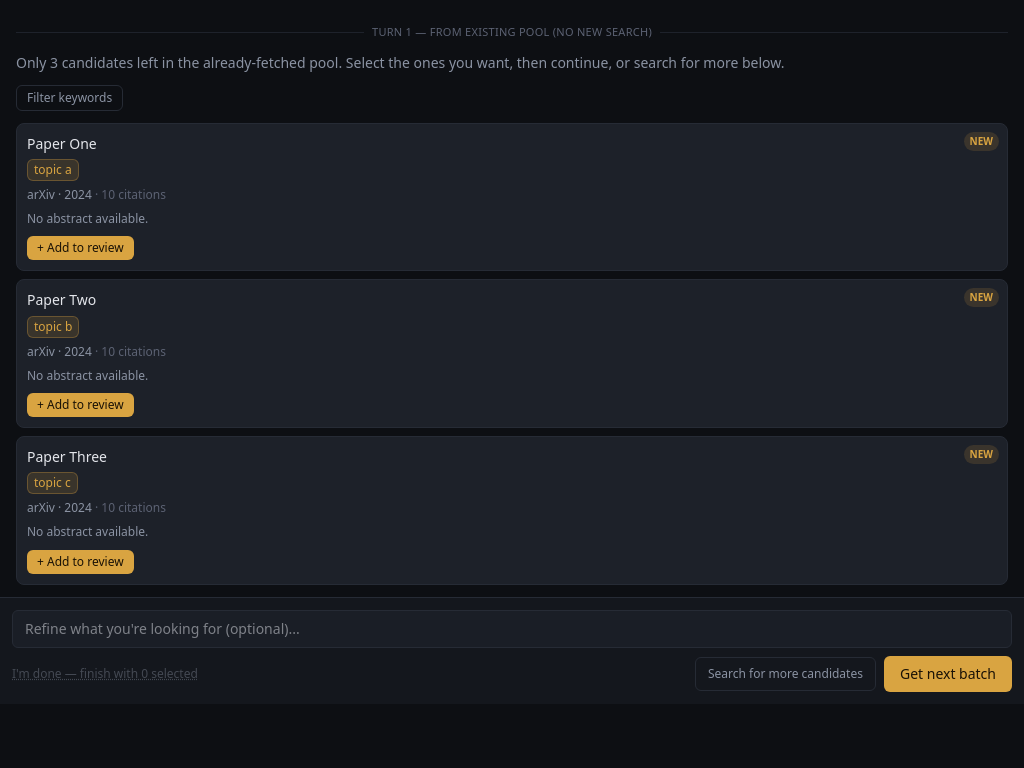
Scenario: ReviewModePanel -- Paper Keywords and Filtering, K4.2: Popular/Browse-all filter › multiple selected keywords use OR semantics -- a paper matching ANY selected keyword is visible
Click the button with test id "keyword-filter-toggle": coordinates (70, 98) [16,84,123,110]
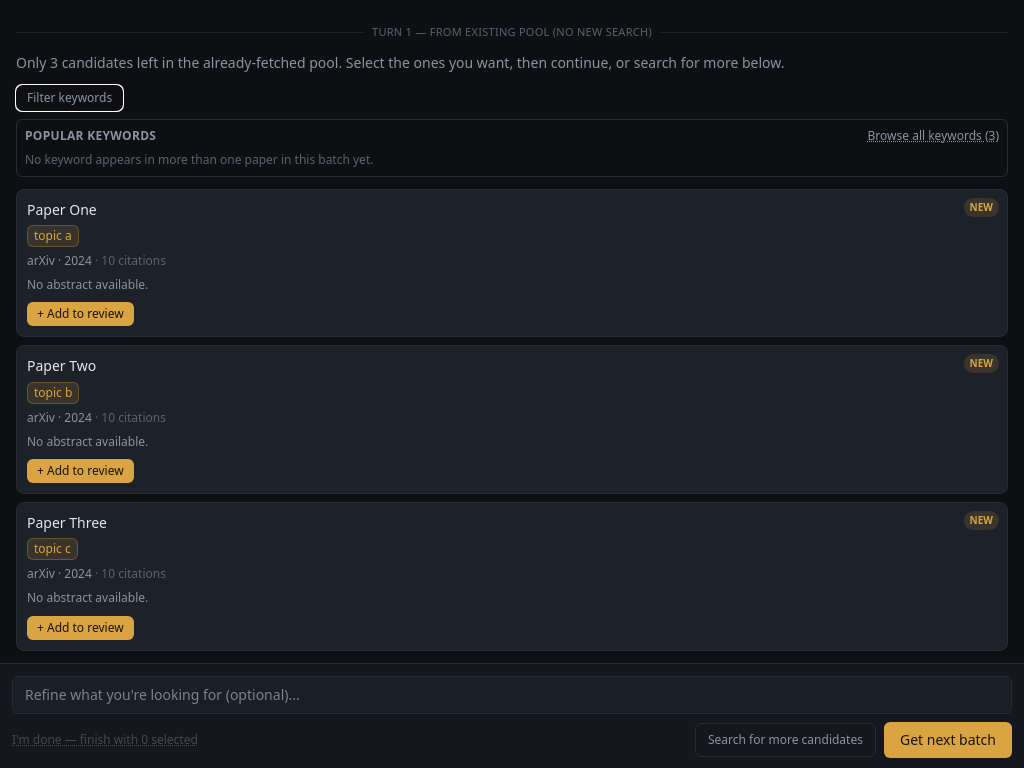
Click the button with test id "keyword-browse-all-toggle": coordinates (933, 136) [868,128,999,144]
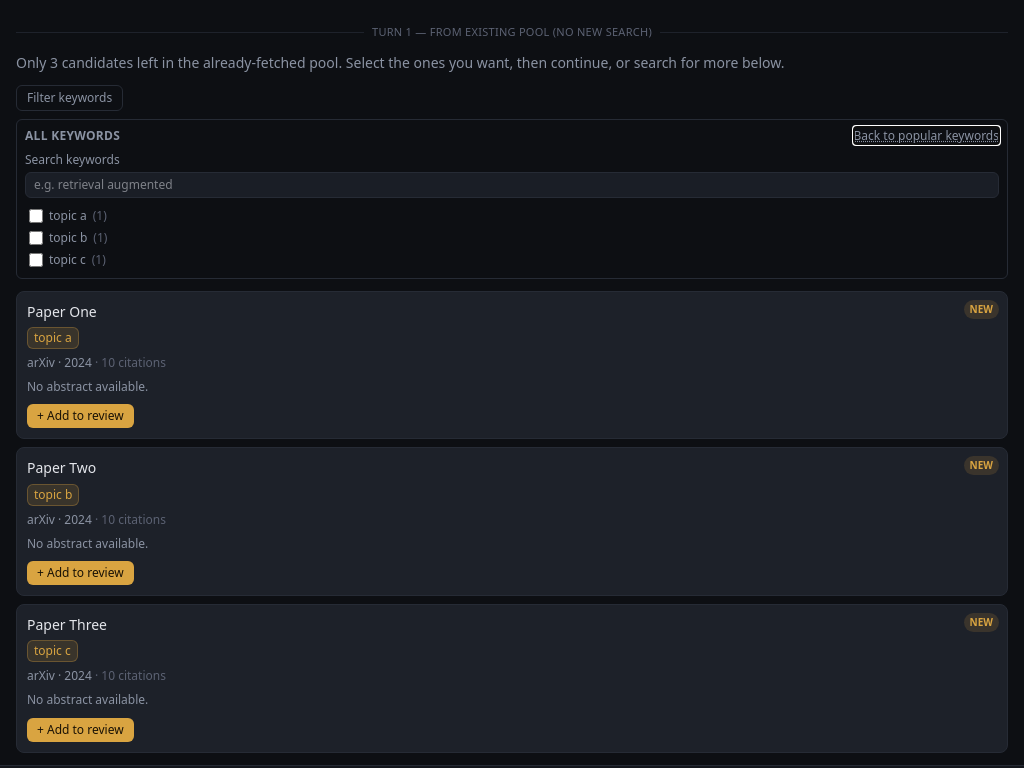
Click the checkbox labelled "topic a (1)": coordinates (36, 216) [29,208,43,222]
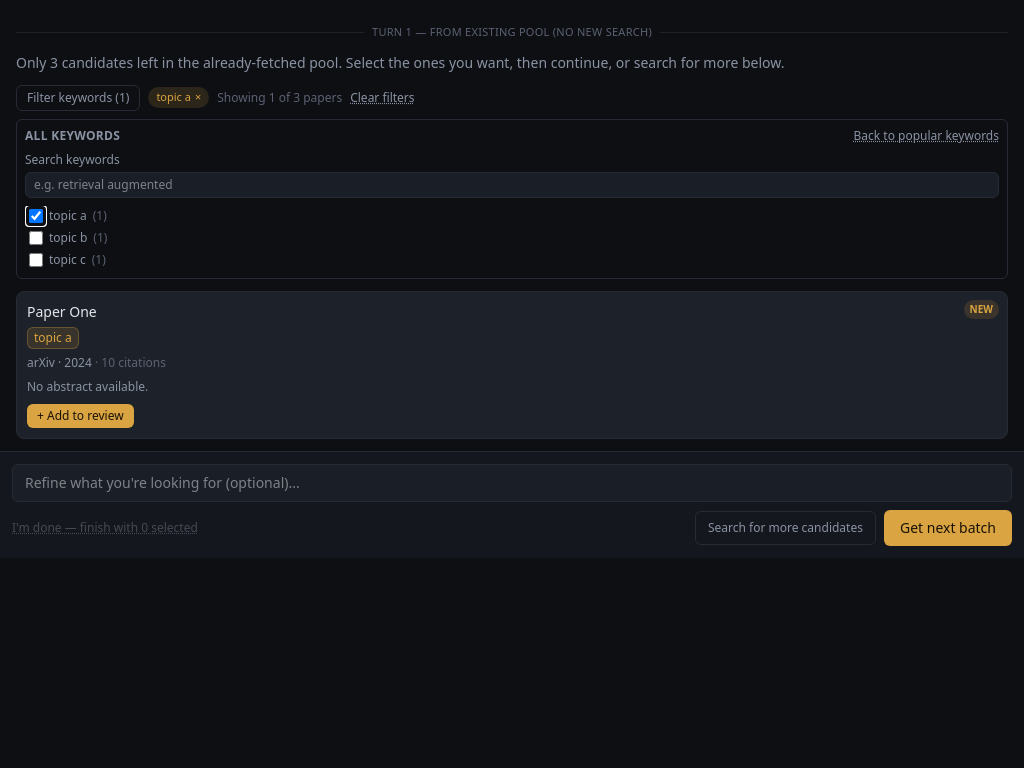
Click the checkbox labelled "topic b (1)": coordinates (36, 238) [29,230,43,244]
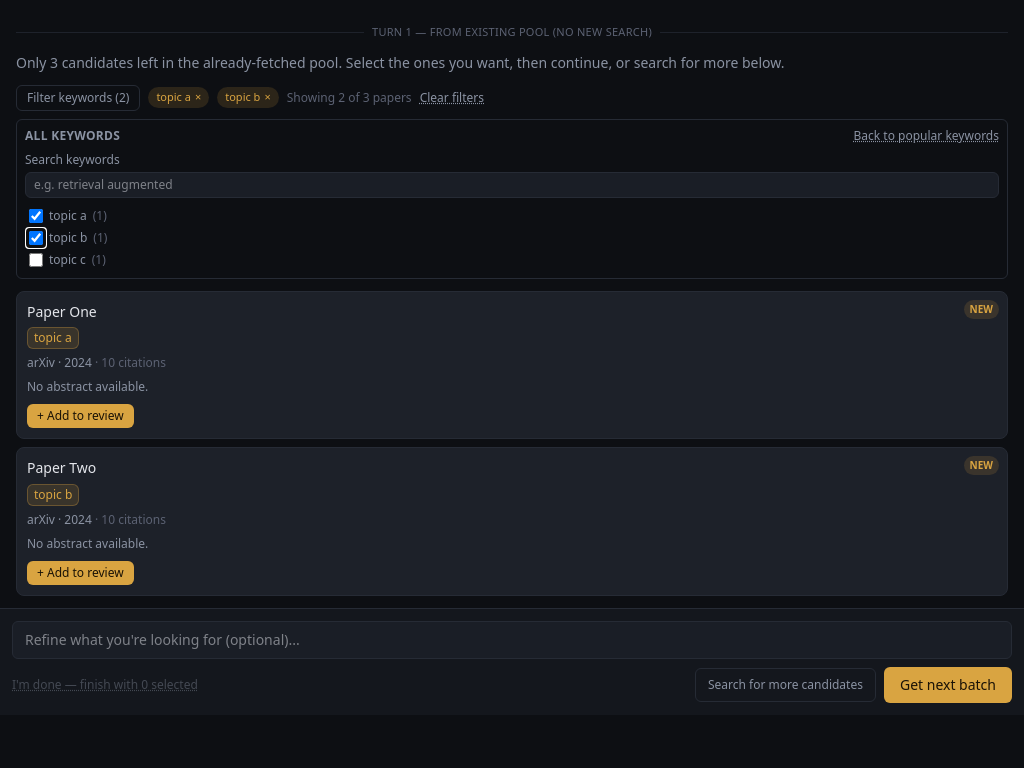
Expected: the text "Paper One" is shown, [27,302,97,320]
Expected: the text "Paper Two" is shown, [27,458,96,477]
Expected: the text with test id "keyword-filter-summary" reads "Showing 2 of 3 papers", [287,90,412,106]
